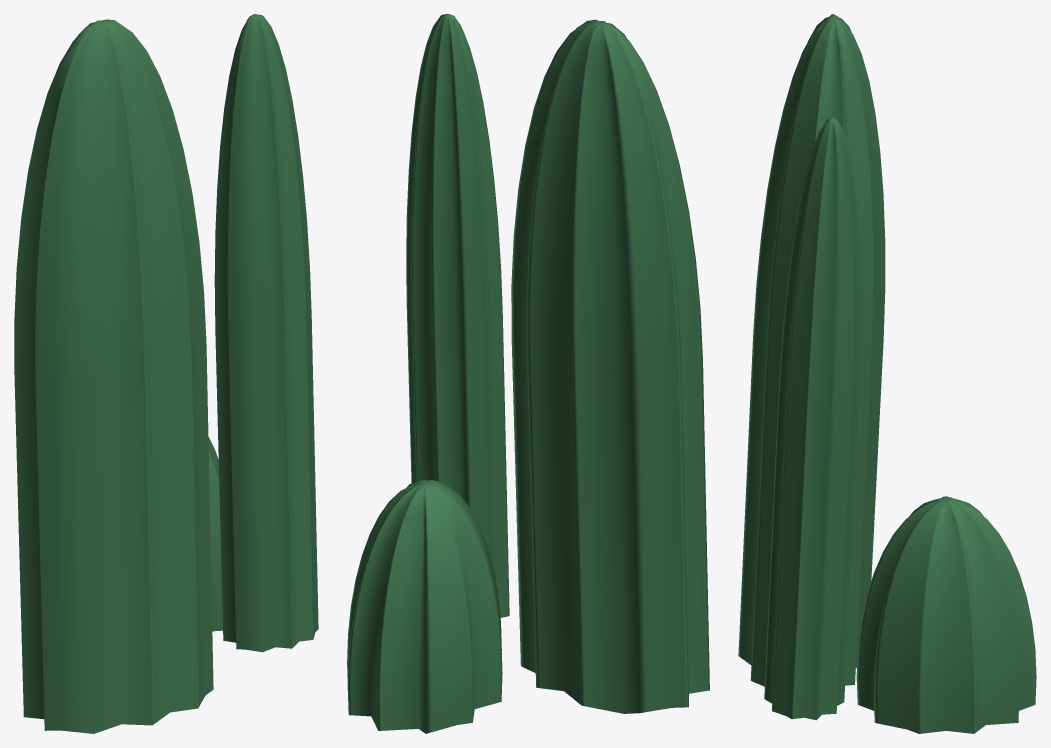
Rendered from Cactus.fbx.
3 renders of one model, left to right at view 1: azimuth 30°, elevation 25°; view 2: azimuth 150°, elevation 25°; view 3: azimuth 270°, elevation 25°, orthographic. The views are drawn at different scales.
Parts seen in each view (by area): view 1: heartFruit:pSphere5, heartFruit:pSphere4, heartFruit:pSphere2; view 2: heartFruit:pSphere5, heartFruit:pSphere4, heartFruit:pSphere2; view 3: heartFruit:pSphere4, heartFruit:pSphere5, heartFruit:pSphere2.
Boxes of the visible parts, left/top/right/bottom form: heartFruit:pSphere5: left=14, top=19, right=213, bottom=733; heartFruit:pSphere4: left=214, top=14, right=318, bottom=652; heartFruit:pSphere2: left=208, top=436, right=222, bottom=631; heartFruit:pSphere5: left=511, top=19, right=709, bottom=713; heartFruit:pSphere4: left=406, top=14, right=509, bottom=617; heartFruit:pSphere2: left=347, top=479, right=502, bottom=733; heartFruit:pSphere4: left=764, top=117, right=861, bottom=720; heartFruit:pSphere5: left=738, top=14, right=885, bottom=686; heartFruit:pSphere2: left=856, top=496, right=1036, bottom=733.
Size of the model in its own units: 1.48 by 3.46 by 1.43.
